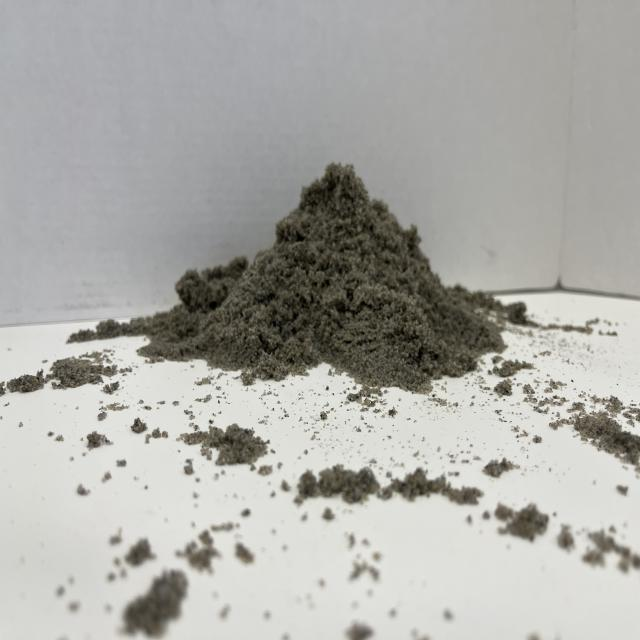sand: (152, 148, 486, 391)
